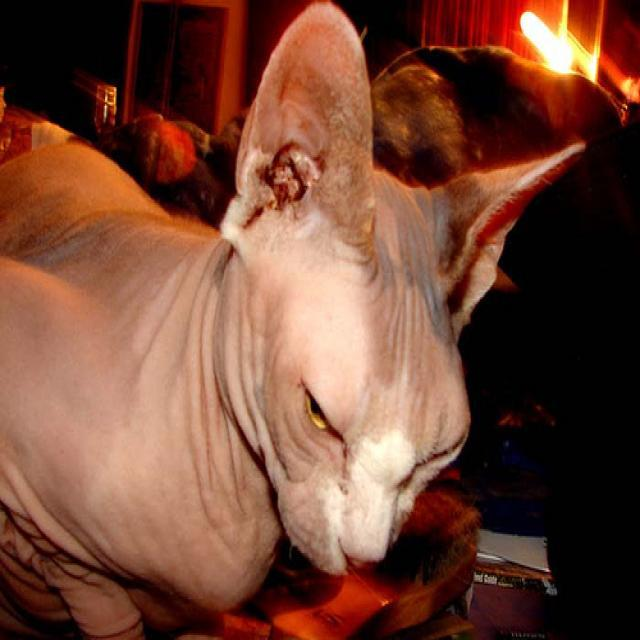Sphynx: (212, 0, 587, 579)
